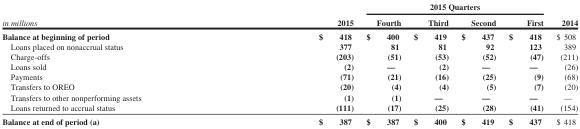table: (1, 1, 577, 125)
table column: (1, 1, 229, 125), (229, 1, 359, 125), (406, 1, 454, 125), (501, 1, 549, 125), (359, 1, 406, 125), (454, 1, 501, 125), (549, 1, 577, 125)
table column header: (1, 1, 577, 28)
table row: (1, 13, 577, 28), (1, 1, 577, 13), (1, 28, 577, 40), (1, 101, 577, 113), (1, 113, 577, 125), (1, 50, 577, 61), (1, 40, 577, 50), (1, 61, 577, 71), (1, 71, 577, 81), (1, 81, 577, 91), (1, 91, 577, 101)
table spanning cell: (1, 1, 229, 28), (229, 1, 359, 28), (359, 1, 549, 13), (549, 1, 577, 28)
